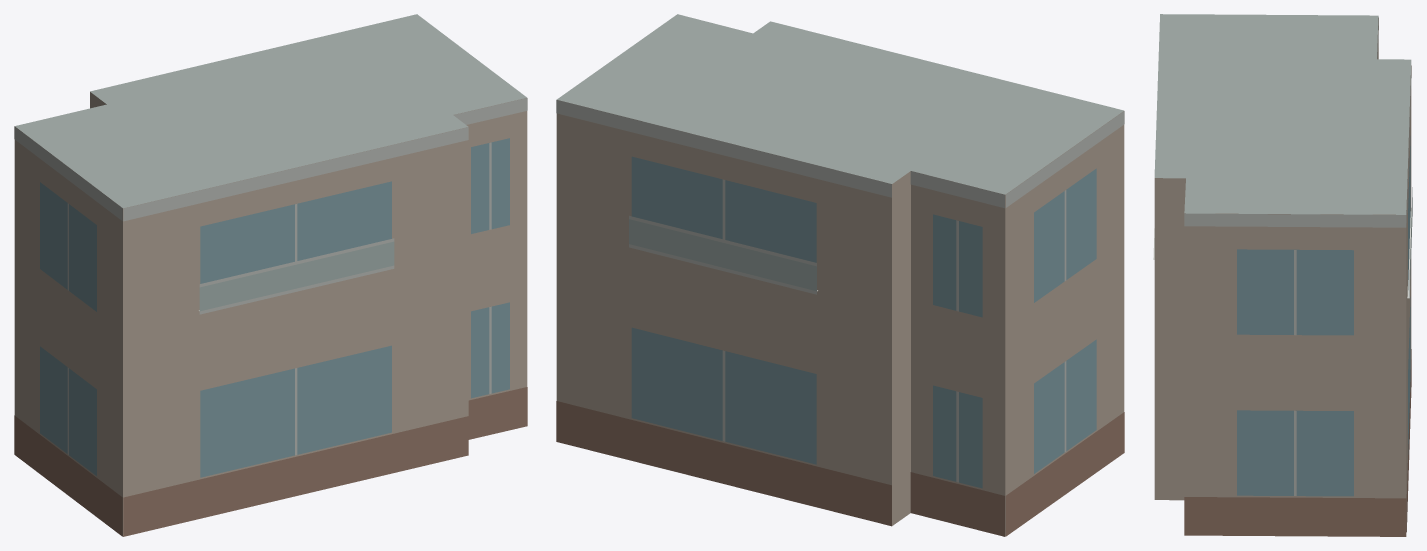
The model's file is survey-upis-32827053.glb.
The picture shows the model from 3 angles, left to right: view 1: azimuth 30°, elevation 25°; view 2: azimuth 150°, elevation 25°; view 3: azimuth 270°, elevation 25°; orthographic projection. The views are drawn at different scales.
Parts seen in each view (by area): view 1: survey-upis-32827053.tmp; view 2: survey-upis-32827053.tmp; view 3: survey-upis-32827053.tmp.
Boxes of the visible parts, box(x1,y1,x2,y2) form: survey-upis-32827053.tmp: box(14, 14, 527, 536); survey-upis-32827053.tmp: box(556, 14, 1124, 536); survey-upis-32827053.tmp: box(1153, 14, 1412, 536).
Size of the model in its own units: 8.17 by 6.1 by 4.45.
